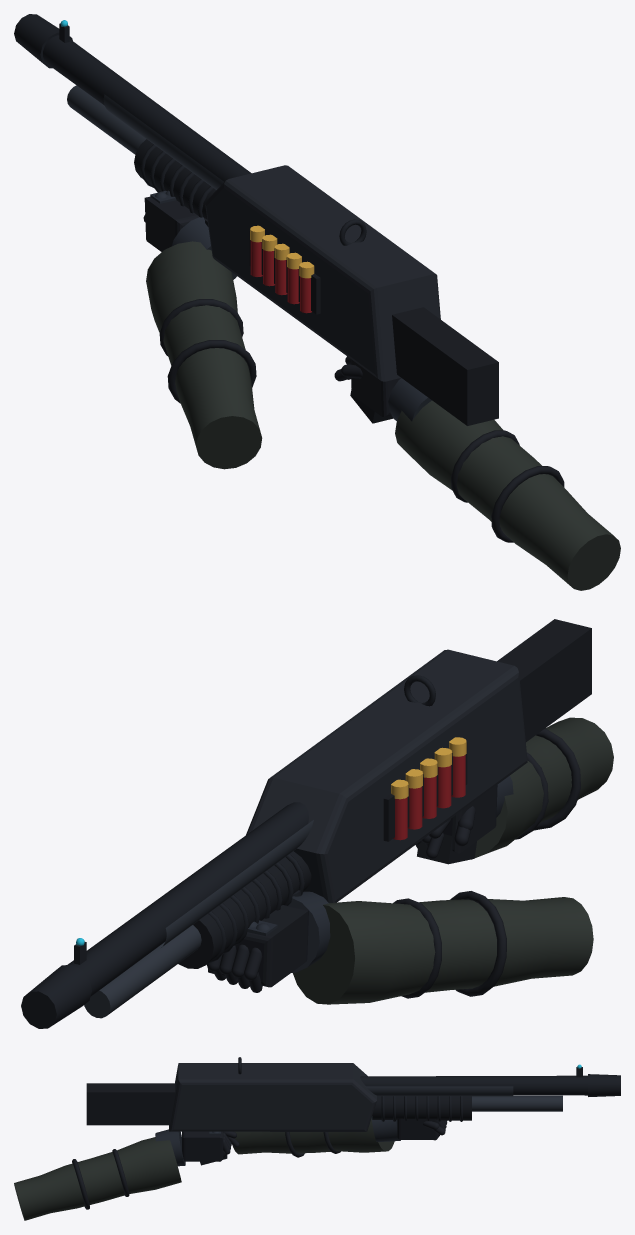
The model's file is doom99_shotgun.glb.
The picture shows the model from 3 angles, top to bottom: view 1: azimuth 30°, elevation 25°; view 2: azimuth 150°, elevation 25°; view 3: azimuth 270°, elevation 25°; orthographic projection. The views are drawn at different scales.
Visible parts, largest first — view 1: object 1, RightHand, LeftHand, object 22, object 2, Magazine, object 4, object 3, object 5; view 2: LeftHand, object 1, RightHand, object 2, object 22, Magazine, object 4, object 5, object 3, object 7, object 21, object 10 (+1 smaller); view 3: object 1, RightHand, LeftHand, object 22, object 2, Magazine, object 3, object 4, object 5.
Part boxes in pixels (<box>): object 1: <box>205,165,440,381</box>; RightHand: <box>334,356,620,590</box>; LeftHand: <box>143,190,262,469</box>; object 22: <box>392,307,498,425</box>; object 2: <box>43,35,251,181</box>; Magazine: <box>134,139,216,219</box>; object 4: <box>67,85,145,154</box>; object 3: <box>103,94,223,189</box>; object 5: <box>14,14,72,68</box>; LeftHand: <box>207,890,593,1004</box>; object 1: <box>246,649,527,902</box>; RightHand: <box>415,717,613,859</box>; object 2: <box>67,802,308,996</box>; object 22: <box>497,619,591,742</box>; Magazine: <box>178,851,311,968</box>; object 4: <box>84,925,201,1018</box>; object 5: <box>21,965,91,1028</box>; object 3: <box>161,820,313,947</box>; object 7: <box>383,742,467,841</box>; object 21: <box>417,834,476,864</box>; object 10: <box>408,786,422,829</box>; object 1: <box>169,1063,376,1131</box>; RightHand: <box>14,1129,239,1220</box>; LeftHand: <box>232,1116,447,1157</box>; object 22: <box>86,1083,175,1125</box>; object 2: <box>360,1075,587,1095</box>; Magazine: <box>372,1096,471,1121</box>; object 3: <box>365,1086,513,1096</box>; object 4: <box>472,1095,562,1111</box>; object 5: <box>588,1074,620,1096</box>.
Size of the model in its own units: 0.3833 by 0.3889 by 1.47.
